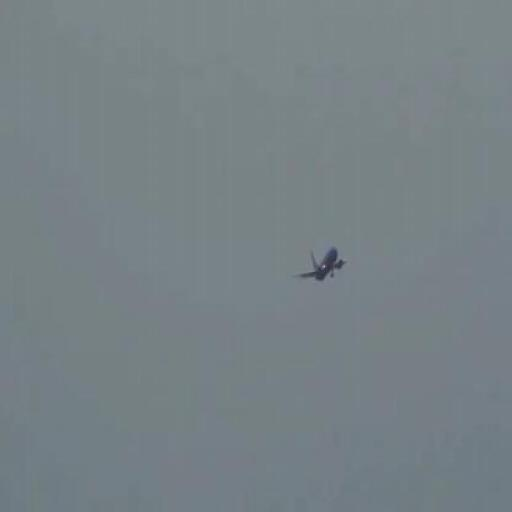aircraft: (292, 245, 350, 287)
